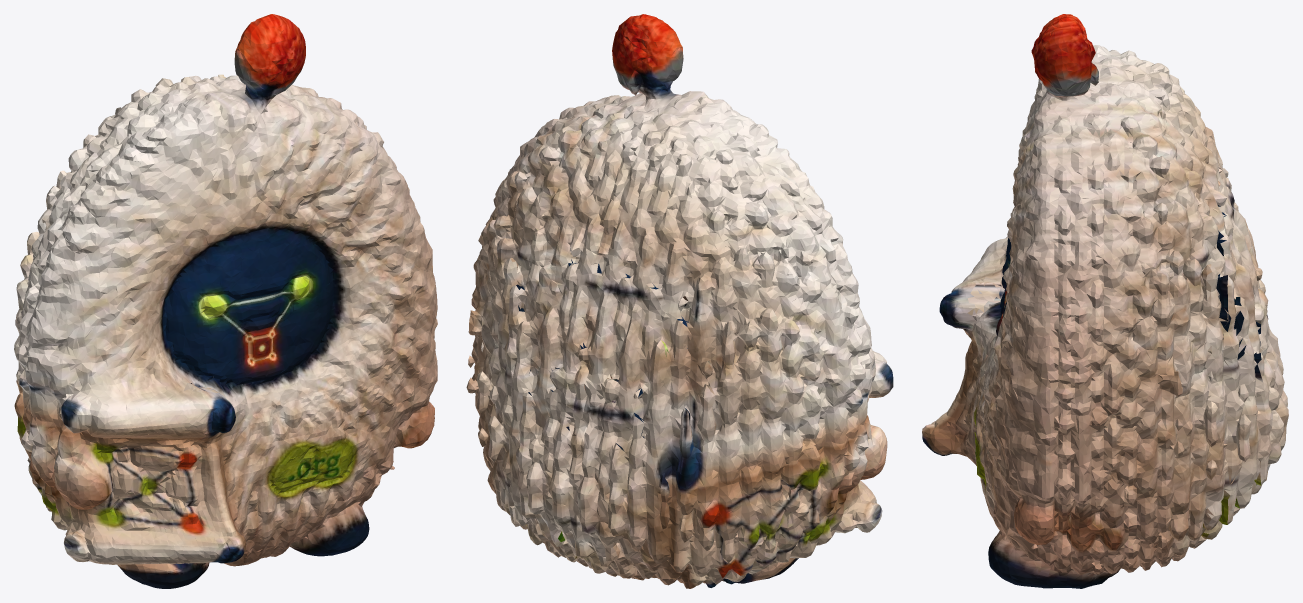
The model's file is nodi-org-noears.glb.
The picture shows the model from 3 angles, left to right: view 1: azimuth 30°, elevation 25°; view 2: azimuth 150°, elevation 25°; view 3: azimuth 270°, elevation 25°; orthographic projection. The views are drawn at different scales.
Visible parts, largest first — view 1: geometry_0; view 2: geometry_0; view 3: geometry_0.
Boxes of the visible parts, x1=… form: geometry_0: x1=14, y1=14, x2=437, y2=588; geometry_0: x1=466, y1=14, x2=893, y2=588; geometry_0: x1=922, y1=14, x2=1288, y2=588.
Bounding box in the file's own units: 0.7766 × 0.9931 × 0.6056.
Materials: 1 (1 with a texture image).
